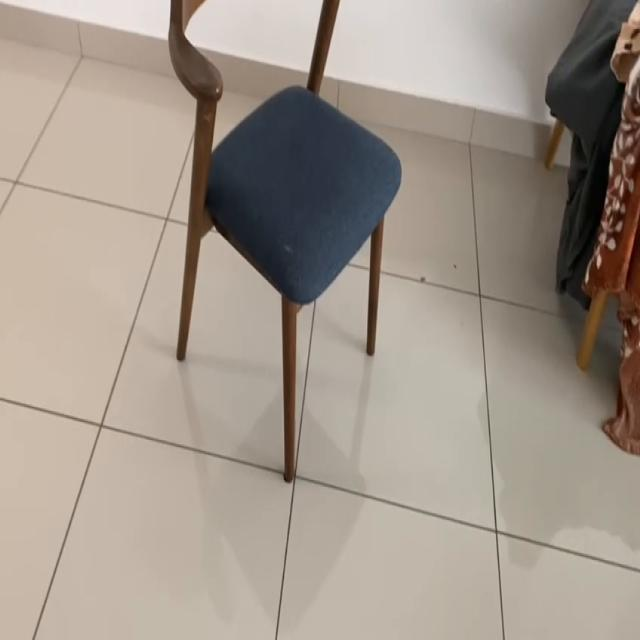Chair: (119, 0, 412, 488)
